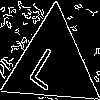L: (27, 39, 70, 92)
